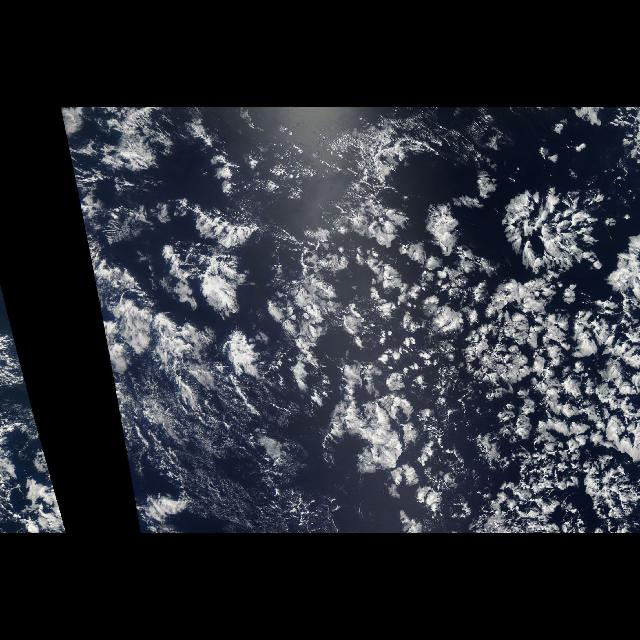Flower: (85, 115, 640, 533)
Sugar: (120, 368, 328, 532)
